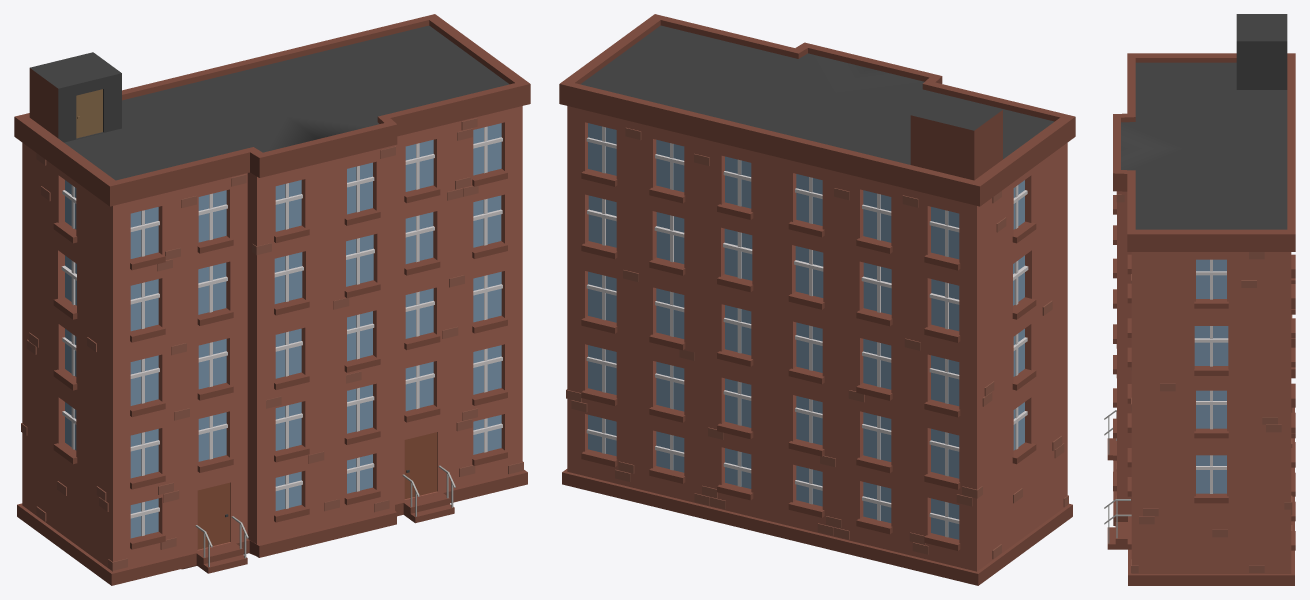
Rendered from Multistory_04.glb.
3 renders of one model, left to right at view 1: azimuth 30°, elevation 25°; view 2: azimuth 150°, elevation 25°; view 3: azimuth 270°, elevation 25°, orthographic. The views are drawn at different scales.
Parts seen in each view (by area): view 1: House_04; view 2: House_04; view 3: House_04.
Boxes of the visible parts, left/top/right/bottom form: House_04: left=14, top=14, right=530, bottom=585; House_04: left=559, top=14, right=1075, bottom=585; House_04: left=1104, top=14, right=1295, bottom=585.
Size of the model in its own units: 14.07 by 14.41 by 6.3.
1 material, 1 textured.
